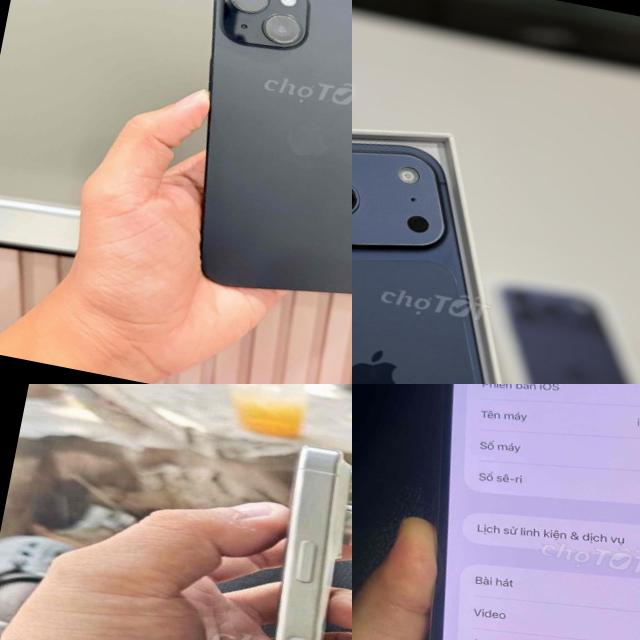gen_14: (352, 384, 640, 640)
gen_15: (117, 0, 352, 333), (187, 423, 352, 640)
gen_17: (352, 115, 578, 384)
